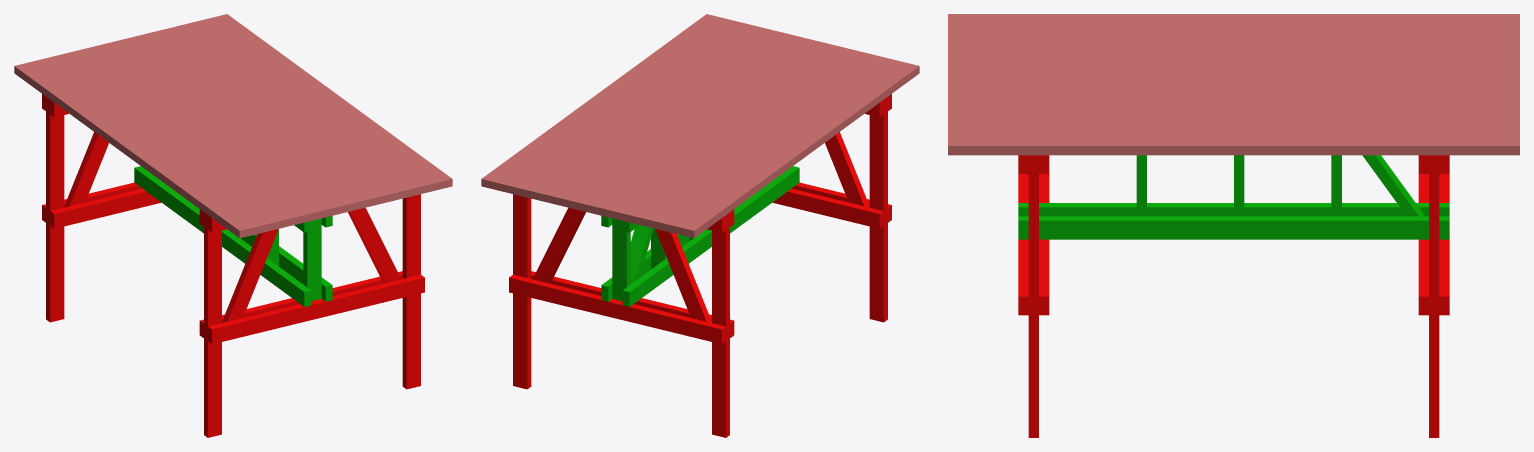
File: result.glb
3 renders of one model, left to right at view 1: azimuth 30°, elevation 25°; view 2: azimuth 150°, elevation 25°; view 3: azimuth 270°, elevation 25°, orthographic. The views are drawn at different scales.
Visible parts, largest first — view 1: 4a1ae84b-c380-41dc-953d-89afc60b8c5f__Box, 1fa96818-3bbc-4a5a-947c-01501150e3d9__sideH, 672af56e-67b2-499e-af69-c11b395fa327__undefined, 153e06da-8542-4309-ae8b-b00dfb36ca0f__sideV, cb3a0fa1-f166-40c5-9b0a-fa391cccf1ba__undefined, 8146f5ae-cdb4-4c46-8e91-09dd92a7276a__undefined, 8ec16050-a81b-4252-90c6-b332d08607a6__undefined, 707a5557-b2dd-4edf-861a-835587485e02__undefined, bea4801b-23a6-44b3-8b08-060a3760a2ef__undefined, e79f9ebd-383c-4186-b615-4e16233c7b73__undefined, db356dde-5a39-41d5-8f5d-c768b7f7795a__undefined, c6430659-2de8-47d9-b1e8-e46821e2130f__undefined (+16 smaller); view 2: 4a1ae84b-c380-41dc-953d-89afc60b8c5f__Box, 4458757c-1d6d-481e-87d6-85ec953cf7bf__undefined, 153e06da-8542-4309-ae8b-b00dfb36ca0f__sideV, 672af56e-67b2-499e-af69-c11b395fa327__undefined, cb3a0fa1-f166-40c5-9b0a-fa391cccf1ba__undefined, 8146f5ae-cdb4-4c46-8e91-09dd92a7276a__undefined, 8ec16050-a81b-4252-90c6-b332d08607a6__undefined, 707a5557-b2dd-4edf-861a-835587485e02__undefined, bea4801b-23a6-44b3-8b08-060a3760a2ef__undefined, e79f9ebd-383c-4186-b615-4e16233c7b73__undefined, db356dde-5a39-41d5-8f5d-c768b7f7795a__undefined, c6430659-2de8-47d9-b1e8-e46821e2130f__undefined (+17 smaller); view 3: 67dad3a9-75a4-4f10-8aca-ef747dd9166b__undefined, f9848636-19de-4d90-8115-06c46e216c45__strutH, 82ee7fae-c70d-4b8b-9155-8f34f21c4b6b__undefined, db356dde-5a39-41d5-8f5d-c768b7f7795a__undefined, ec65e442-8591-4002-b6ff-d08295dbf357__undefined, cb3a0fa1-f166-40c5-9b0a-fa391cccf1ba__undefined, 9adcd679-602c-4639-97c2-b7b51d380912__undefined, 498702df-0f2e-45eb-9af0-319290e72de3__undefined, 4a1ae84b-c380-41dc-953d-89afc60b8c5f__Box, 8ec16050-a81b-4252-90c6-b332d08607a6__undefined, 707a5557-b2dd-4edf-861a-835587485e02__undefined, ffb15921-89cf-4e12-8777-be847e5bcbcb__undefined (+15 smaller).
Part boxes in pixels (x1,y1,x2,y2): 4a1ae84b-c380-41dc-953d-89afc60b8c5f__Box: (14, 62, 253, 238); 1fa96818-3bbc-4a5a-947c-01501150e3d9__sideH: (208, 274, 424, 344); 672af56e-67b2-499e-af69-c11b395fa327__undefined: (46, 97, 64, 322); 153e06da-8542-4309-ae8b-b00dfb36ca0f__sideV: (204, 212, 221, 437); cb3a0fa1-f166-40c5-9b0a-fa391cccf1ba__undefined: (114, 38, 353, 213); 8146f5ae-cdb4-4c46-8e91-09dd92a7276a__undefined: (199, 17, 438, 193); 8ec16050-a81b-4252-90c6-b332d08607a6__undefined: (57, 52, 296, 227); 707a5557-b2dd-4edf-861a-835587485e02__undefined: (71, 48, 310, 224); bea4801b-23a6-44b3-8b08-060a3760a2ef__undefined: (142, 31, 381, 206); e79f9ebd-383c-4186-b615-4e16233c7b73__undefined: (157, 28, 395, 203); db356dde-5a39-41d5-8f5d-c768b7f7795a__undefined: (43, 55, 282, 231); c6430659-2de8-47d9-b1e8-e46821e2130f__undefined: (128, 35, 367, 210); 4a1ae84b-c380-41dc-953d-89afc60b8c5f__Box: (680, 62, 919, 238); 4458757c-1d6d-481e-87d6-85ec953cf7bf__undefined: (509, 274, 725, 344); 153e06da-8542-4309-ae8b-b00dfb36ca0f__sideV: (869, 97, 887, 322); 672af56e-67b2-499e-af69-c11b395fa327__undefined: (712, 212, 729, 437); cb3a0fa1-f166-40c5-9b0a-fa391cccf1ba__undefined: (580, 38, 819, 213); 8146f5ae-cdb4-4c46-8e91-09dd92a7276a__undefined: (495, 17, 734, 193); 8ec16050-a81b-4252-90c6-b332d08607a6__undefined: (637, 52, 876, 227); 707a5557-b2dd-4edf-861a-835587485e02__undefined: (623, 48, 862, 224); bea4801b-23a6-44b3-8b08-060a3760a2ef__undefined: (552, 31, 791, 206); e79f9ebd-383c-4186-b615-4e16233c7b73__undefined: (538, 28, 776, 203); db356dde-5a39-41d5-8f5d-c768b7f7795a__undefined: (651, 55, 890, 231); c6430659-2de8-47d9-b1e8-e46821e2130f__undefined: (566, 35, 805, 210); 67dad3a9-75a4-4f10-8aca-ef747dd9166b__undefined: (948, 137, 1519, 155); f9848636-19de-4d90-8115-06c46e216c45__strutH: (1018, 216, 1449, 239); 82ee7fae-c70d-4b8b-9155-8f34f21c4b6b__undefined: (948, 22, 1519, 31); db356dde-5a39-41d5-8f5d-c768b7f7795a__undefined: (948, 31, 1519, 40); ec65e442-8591-4002-b6ff-d08295dbf357__undefined: (948, 66, 1519, 75); cb3a0fa1-f166-40c5-9b0a-fa391cccf1ba__undefined: (948, 75, 1519, 84); 9adcd679-602c-4639-97c2-b7b51d380912__undefined: (948, 110, 1519, 119); 498702df-0f2e-45eb-9af0-319290e72de3__undefined: (948, 119, 1519, 128); 4a1ae84b-c380-41dc-953d-89afc60b8c5f__Box: (948, 14, 1519, 22); 8ec16050-a81b-4252-90c6-b332d08607a6__undefined: (948, 40, 1519, 48); 707a5557-b2dd-4edf-861a-835587485e02__undefined: (948, 49, 1519, 57); ffb15921-89cf-4e12-8777-be847e5bcbcb__undefined: (948, 58, 1519, 66).
Bounding box in the file's own units: 1200 × 1240 × 2200.
